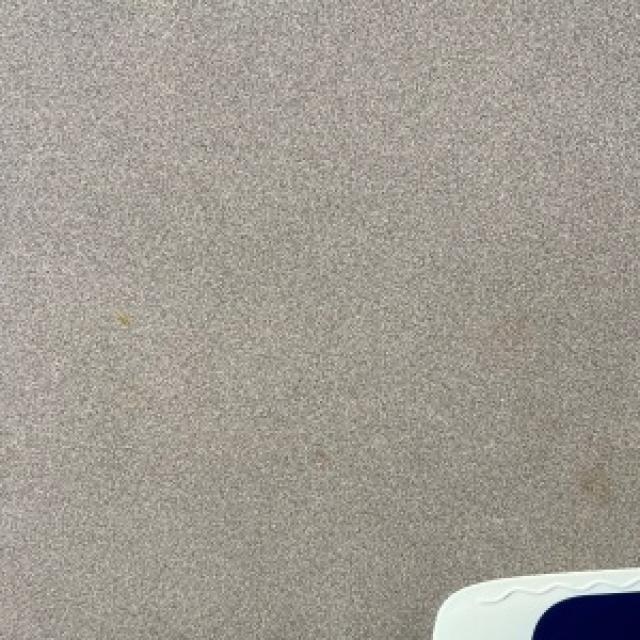healthy: (433, 567, 638, 638)
